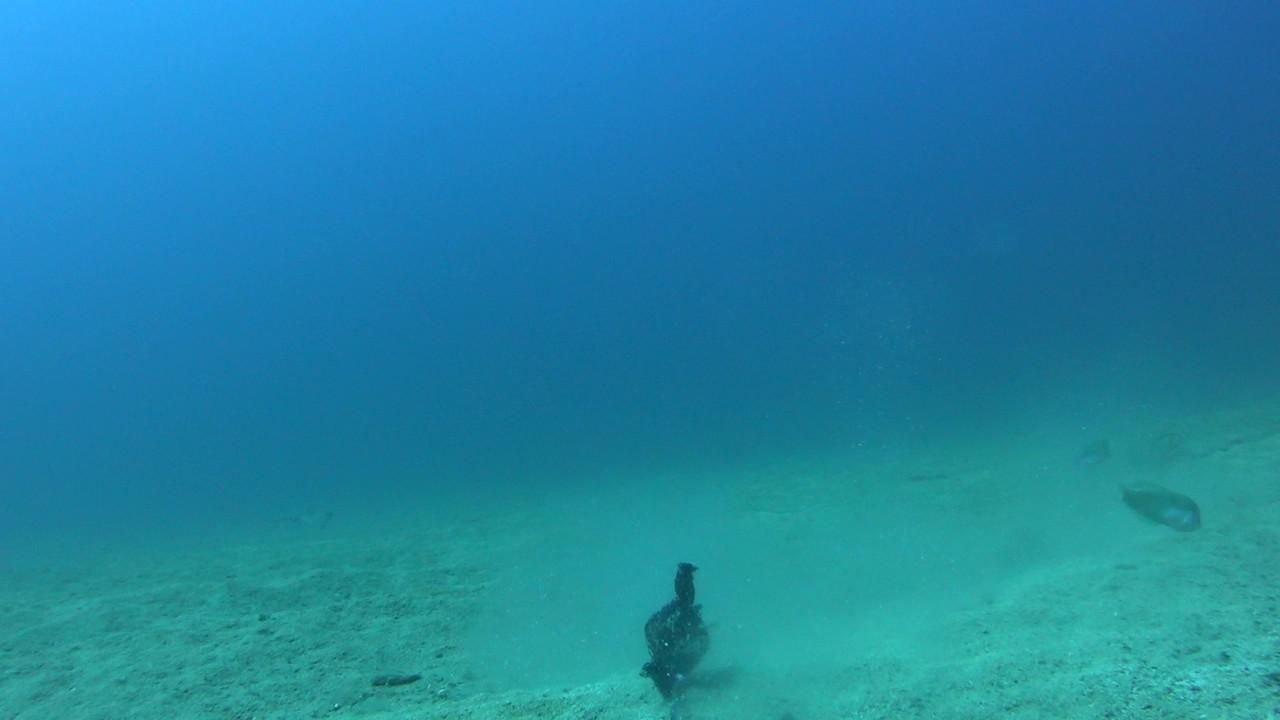myliobatis: (252, 488, 345, 534)
raor: (1113, 483, 1206, 537)
